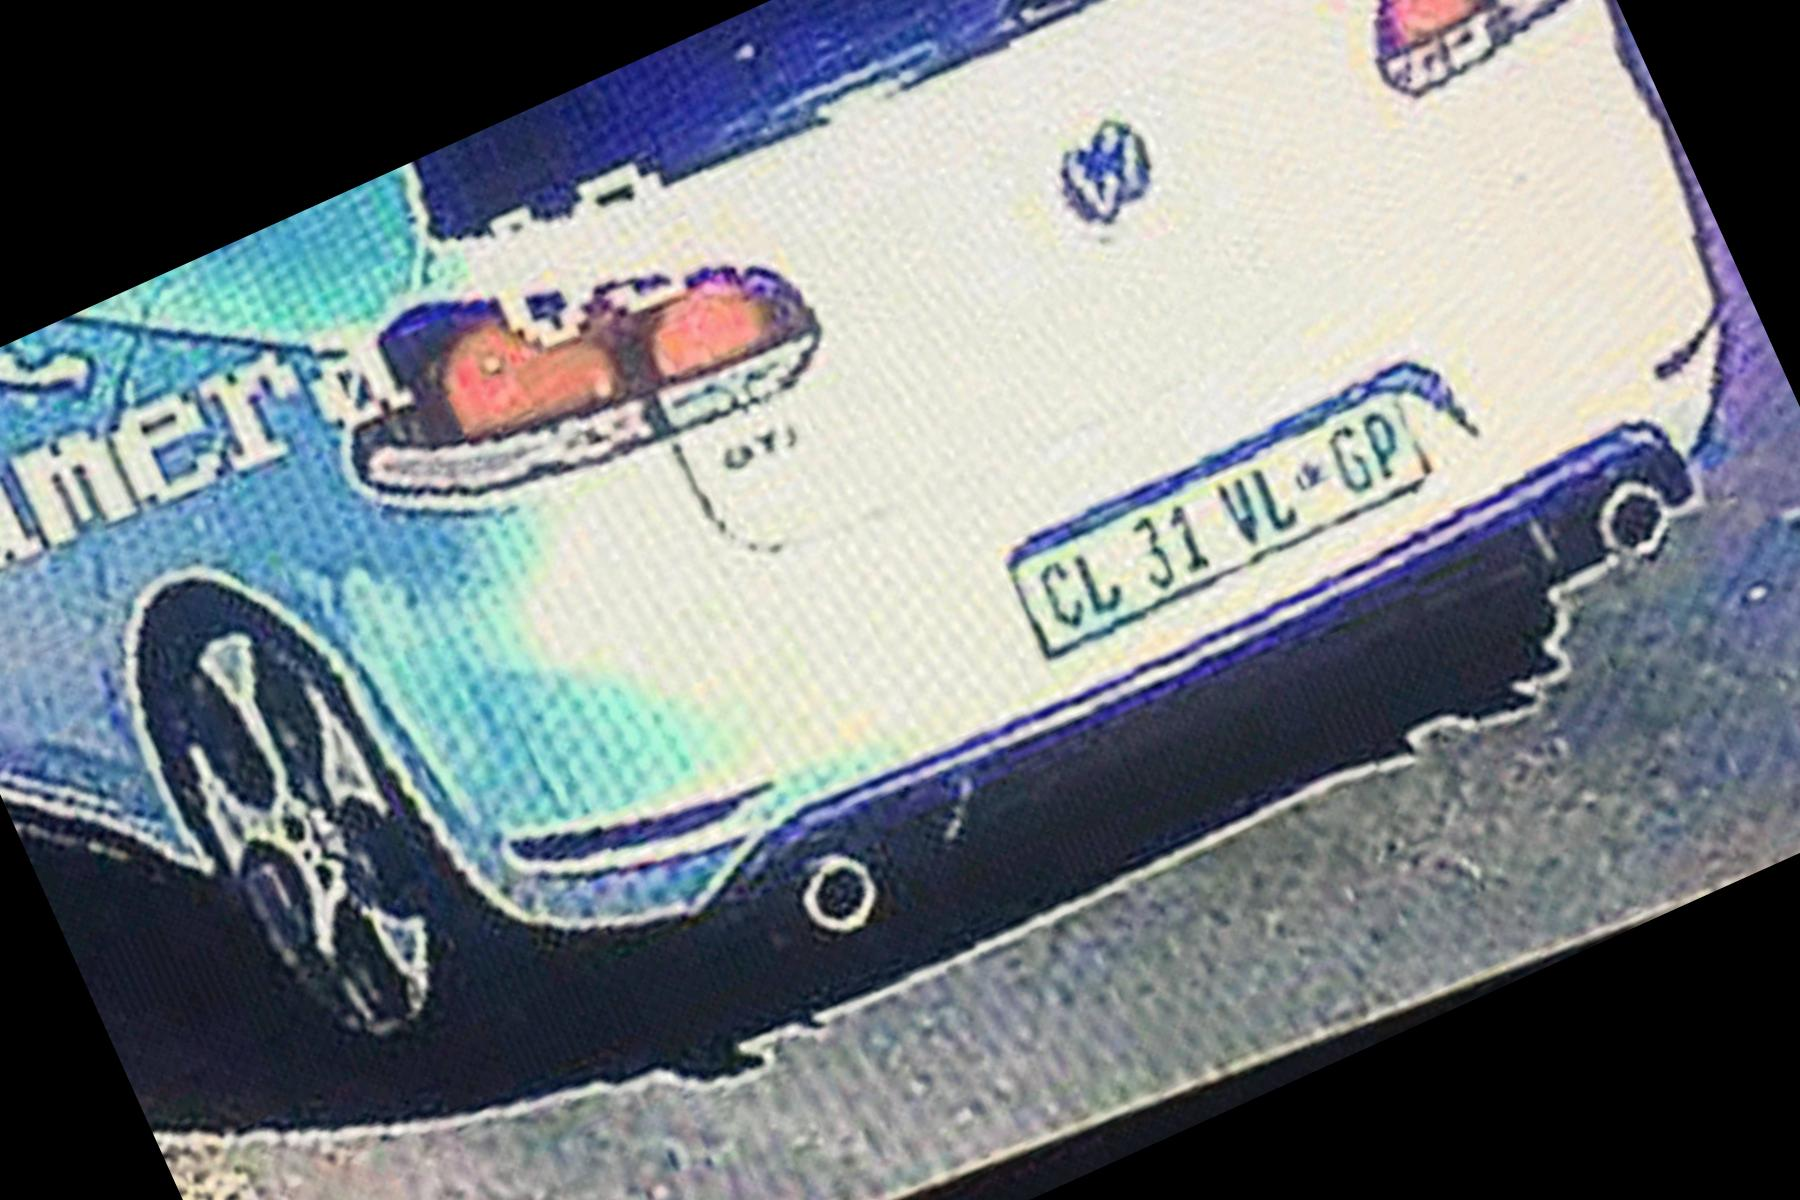plate: (987, 357, 1438, 687)
